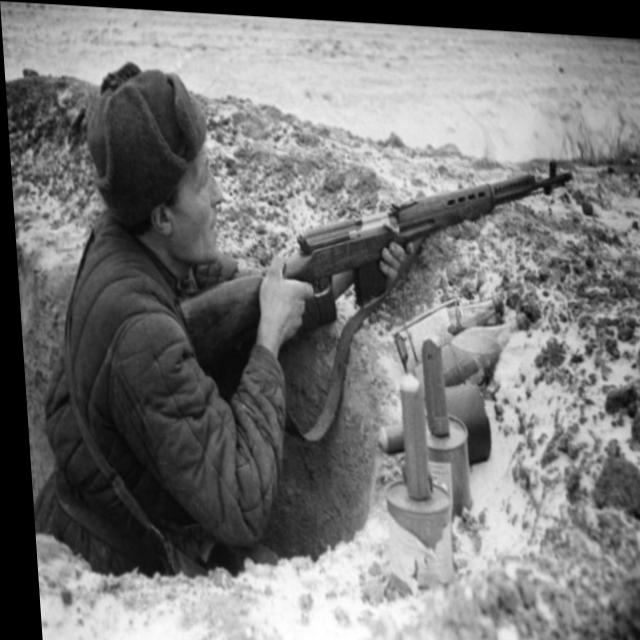other: (50, 62, 271, 566)
